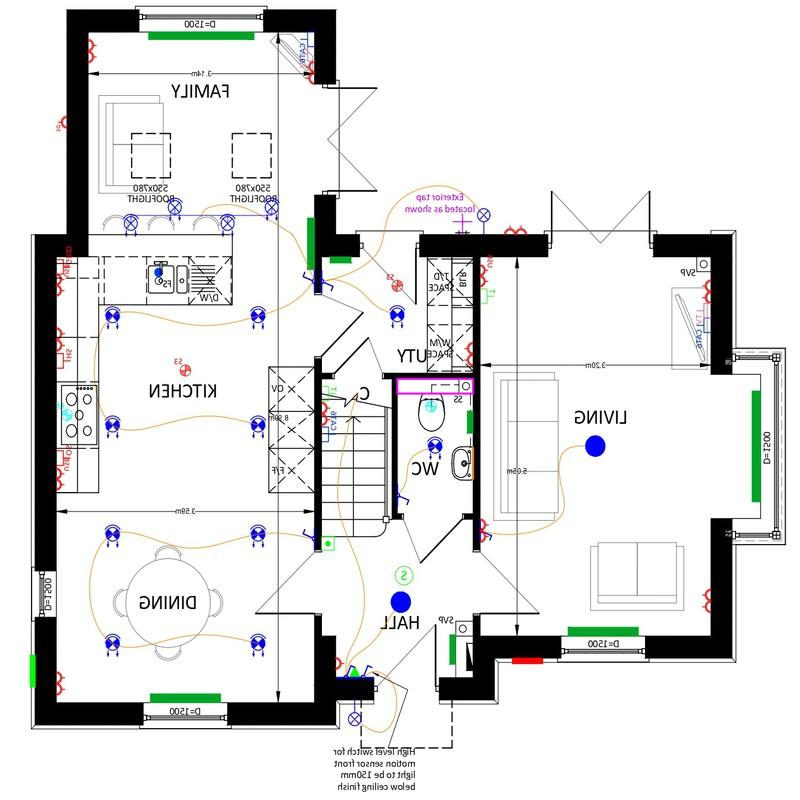BT Entry Point: (351, 662, 360, 679)
Cat 6 Data Socket: (694, 315, 712, 350), (320, 425, 345, 446), (295, 31, 316, 49)
Ceiling Mounted Continuous Extract Fan With Boost Mode Activated By Light Switch: (420, 395, 449, 420)
Ceiling Mounted Continuous Extract Fan With Local Boost Switch: (165, 344, 206, 383), (379, 260, 408, 296)
Co-Ax TV Socket: (291, 44, 315, 62), (689, 301, 713, 317)
Consumer Unit: (461, 639, 476, 674)
Double Socket: (692, 576, 712, 622), (53, 665, 77, 701), (688, 275, 713, 302), (456, 334, 474, 370), (57, 319, 75, 353), (321, 399, 344, 425), (87, 37, 105, 67), (299, 58, 314, 93), (499, 222, 535, 236)
Electric Meter Box: (747, 383, 765, 510), (513, 653, 546, 672)
External Wall Light: (339, 699, 369, 735), (476, 203, 494, 235)
Gas Meter Box: (23, 653, 34, 696)
Grid Switch: (55, 256, 83, 274)
Hob Switch: (54, 348, 80, 377)
Light Switch: (292, 526, 317, 548), (296, 270, 316, 292), (322, 273, 336, 299), (362, 662, 377, 678), (345, 660, 355, 678)
Low Energy Downlighter: (241, 516, 275, 561), (240, 627, 283, 659), (99, 300, 136, 335), (100, 626, 138, 658), (99, 516, 133, 551), (416, 431, 450, 466), (384, 299, 416, 335), (246, 410, 268, 452), (246, 303, 272, 338), (101, 406, 122, 447)
Low Energy Pendant Light: (382, 586, 427, 614), (583, 426, 614, 463)
Mains Wired Smoke Detector: (392, 560, 418, 586)
Outside Socket: (53, 114, 69, 140)
Outside Tap: (440, 207, 477, 235)
Oven Switch: (52, 440, 77, 466)
Programmable Room Thermostat: (318, 534, 338, 559)
Radiator: (139, 28, 262, 50), (565, 614, 647, 639), (132, 687, 230, 704), (300, 211, 316, 269), (479, 510, 498, 550), (439, 631, 456, 668), (325, 256, 359, 271), (463, 406, 476, 442), (399, 481, 413, 511), (478, 525, 493, 546)
Recirculating Extractor Fan: (57, 387, 77, 425)
Single Socket: (333, 651, 348, 674)
Telephone Socket: (478, 284, 505, 314), (319, 380, 349, 399)
Track Light: (110, 187, 292, 240)
USB Double Socket: (477, 256, 502, 286), (54, 466, 70, 500), (54, 273, 69, 306)
Water Entry Position: (151, 263, 169, 283)
